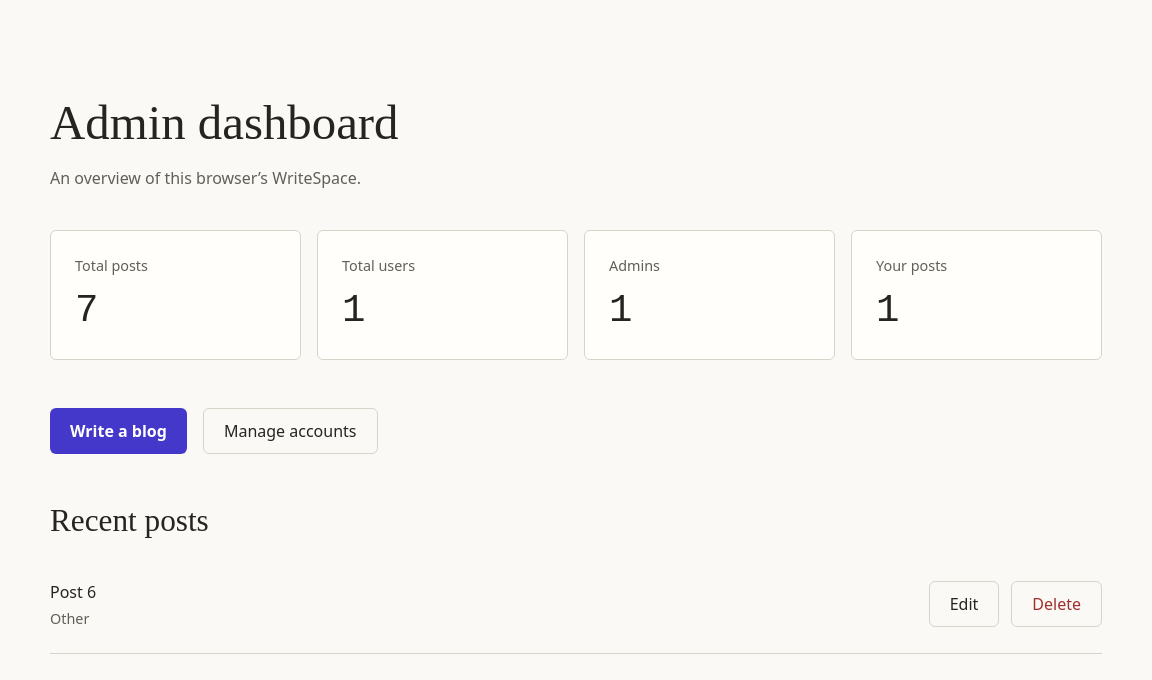
it: AdminDashboard › rejects missing deletion without false success
Step 1. Click the button with aria-label "Delete Post 6" → (1057, 604), box left=1011, top=582, right=1102, bottom=628
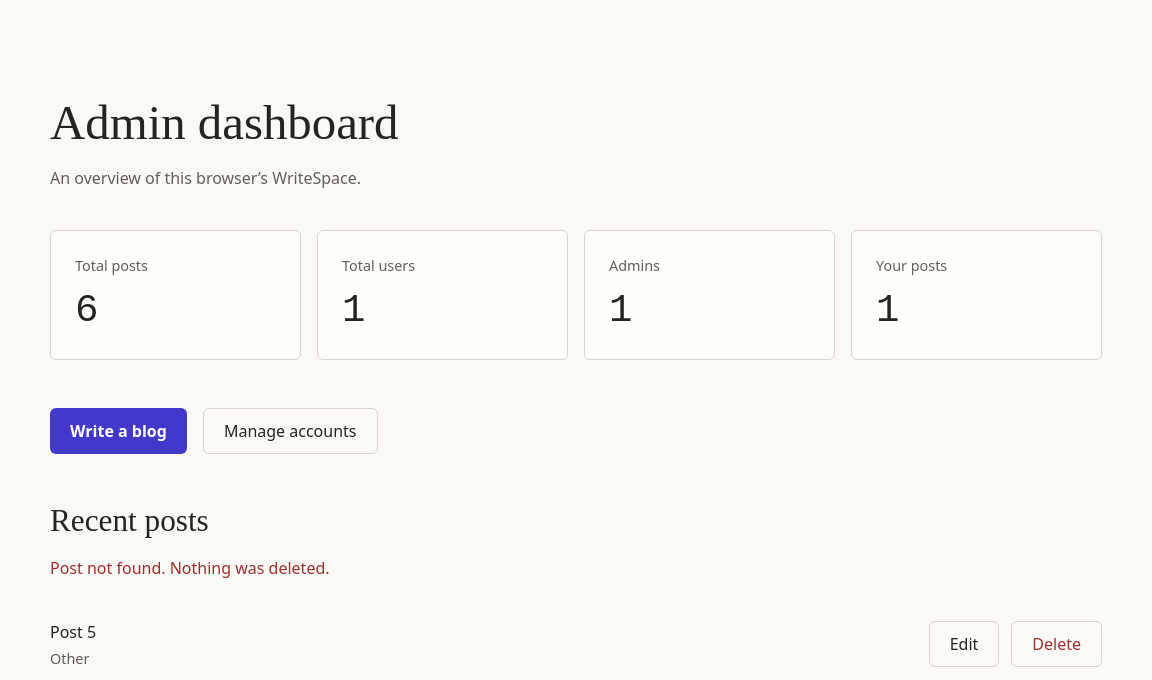
Expected: the heading "Admin dashboard" is shown, left=50, top=95, right=398, bottom=150
Now the message "Post not found. Nothing was deleted." is shown, box left=50, top=557, right=330, bottom=579
